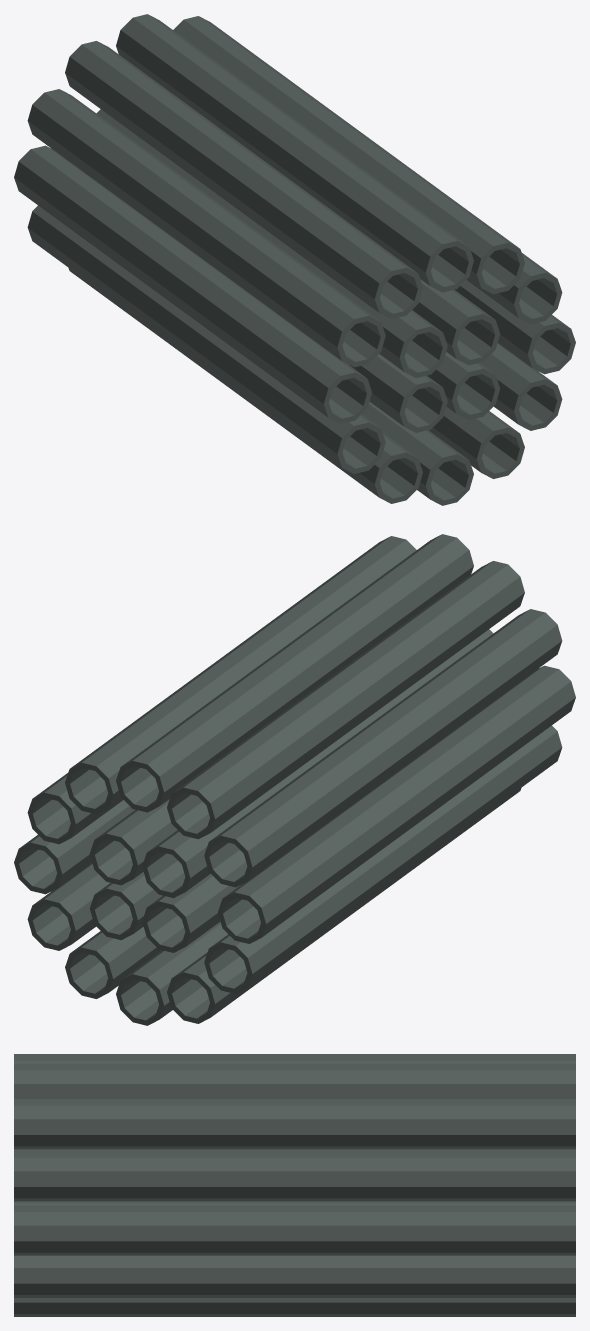
File: Rocket57Sixteen__TubeLiners.obj
The picture shows the model from 3 angles, top to bottom: view 1: azimuth 30°, elevation 25°; view 2: azimuth 150°, elevation 25°; view 3: azimuth 270°, elevation 25°; orthographic projection. The views are drawn at different scales.
Visible parts, largest first — view 1: Tube_10, Tube_09, Tube_11, Tube_08, Tube_12, Tube_07, Tube_02, Tube_05, Tube_14, Tube_03, Tube_01, Tube_15 (+4 smaller); view 2: Tube_10, Tube_09, Tube_11, Tube_08, Tube_12, Tube_07, Tube_02, Tube_05, Tube_14, Tube_03, Tube_01, Tube_15 (+4 smaller); view 3: Tube_05, Tube_06, Tube_07, Tube_16, Tube_08, Tube_15, Tube_09, Tube_04, Tube_01.
Part boxes in pixels (x1=…): Tube_10: x1=27, y1=89, x2=385, y2=367; Tube_09: x1=65, y1=41, x2=422, y2=319; Tube_11: x1=14, y1=145, x2=371, y2=423; Tube_08: x1=116, y1=14, x2=473, y2=292; Tube_12: x1=27, y1=205, x2=385, y2=473; Tube_07: x1=173, y1=16, x2=524, y2=294; Tube_02: x1=96, y1=109, x2=447, y2=378; Tube_05: x1=455, y1=280, x2=575, y2=374; Tube_14: x1=362, y1=401, x2=473, y2=505; Tube_03: x1=349, y1=354, x2=447, y2=432; Tube_01: x1=412, y1=279, x2=500, y2=365; Tube_15: x1=428, y1=407, x2=524, y2=478; Tube_10: x1=204, y1=609, x2=562, y2=887; Tube_09: x1=167, y1=561, x2=524, y2=839; Tube_11: x1=218, y1=665, x2=575, y2=943; Tube_08: x1=116, y1=534, x2=473, y2=812; Tube_12: x1=204, y1=725, x2=562, y2=993; Tube_07: x1=65, y1=536, x2=416, y2=814; Tube_02: x1=142, y1=629, x2=493, y2=898; Tube_05: x1=14, y1=800, x2=134, y2=894; Tube_14: x1=116, y1=921, x2=227, y2=1025; Tube_03: x1=142, y1=874, x2=240, y2=952; Tube_01: x1=89, y1=799, x2=177, y2=885; Tube_15: x1=65, y1=927, x2=161, y2=998; Tube_05: x1=14, y1=1205, x2=575, y2=1255; Tube_06: x1=14, y1=1151, x2=575, y2=1201; Tube_07: x1=14, y1=1099, x2=575, y2=1149; Tube_16: x1=14, y1=1255, x2=575, y2=1297; Tube_08: x1=14, y1=1063, x2=575, y2=1098; Tube_15: x1=14, y1=1298, x2=575, y2=1316; Tube_09: x1=14, y1=1054, x2=575, y2=1063; Tube_04: x1=14, y1=1201, x2=575, y2=1205; Tube_01: x1=14, y1=1149, x2=575, y2=1150.
Bounding box in the file's own units: 0.626 × 0.6201 × 1.33.
